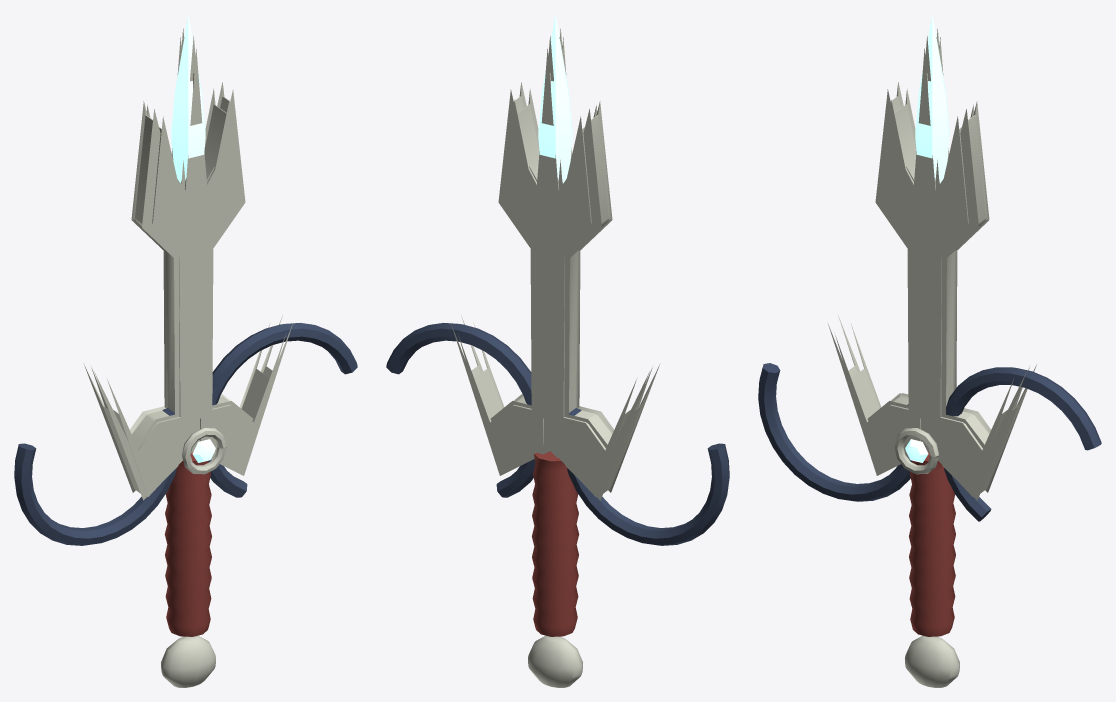
Rendered from boss_pale_requiem_main_weapon.glb.
The picture shows the model from 3 angles, left to right: view 1: azimuth 30°, elevation 25°; view 2: azimuth 150°, elevation 25°; view 3: azimuth 330°, elevation 25°; orthographic projection.
Visible parts, largest first — view 1: boss_pale_requiem_main_weapon; view 2: boss_pale_requiem_main_weapon; view 3: boss_pale_requiem_main_weapon.
Part boxes in pixels (x1=…): boss_pale_requiem_main_weapon: x1=14, y1=14, x2=357, y2=687; boss_pale_requiem_main_weapon: x1=386, y1=14, x2=729, y2=687; boss_pale_requiem_main_weapon: x1=758, y1=14, x2=1101, y2=687.
Bounding box in the file's own units: 0.3406 × 0.6384 × 0.0539.
